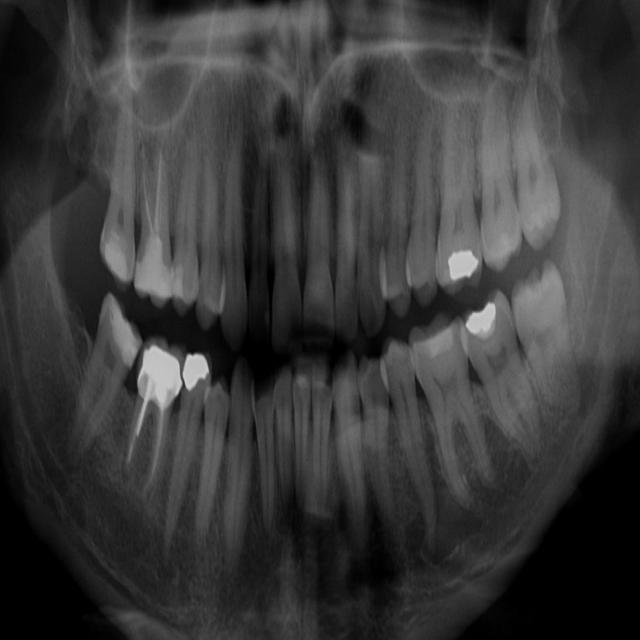dentin-curugu: (244, 363, 286, 426), (246, 280, 281, 355)
dolgu: (129, 245, 180, 307), (432, 230, 485, 289), (459, 290, 509, 350), (180, 353, 216, 401)
kanal-tedavisi: (128, 143, 174, 255), (122, 386, 174, 484)
kaplama: (135, 330, 187, 403)
